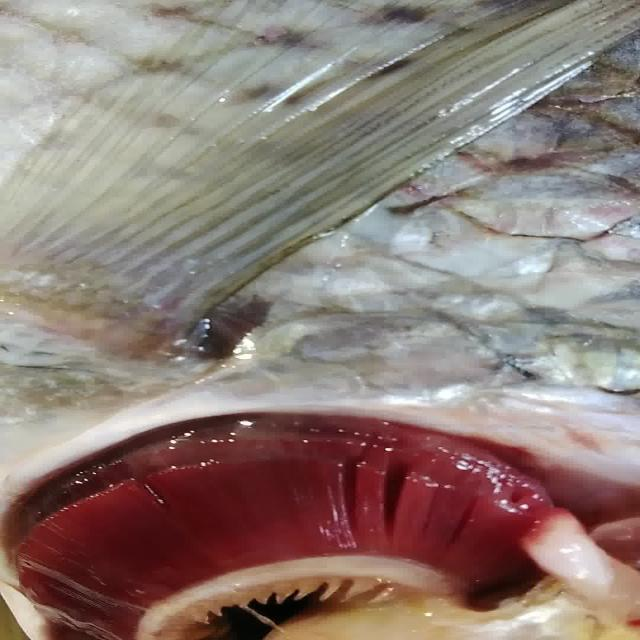Fresh: (18, 393, 599, 628)
